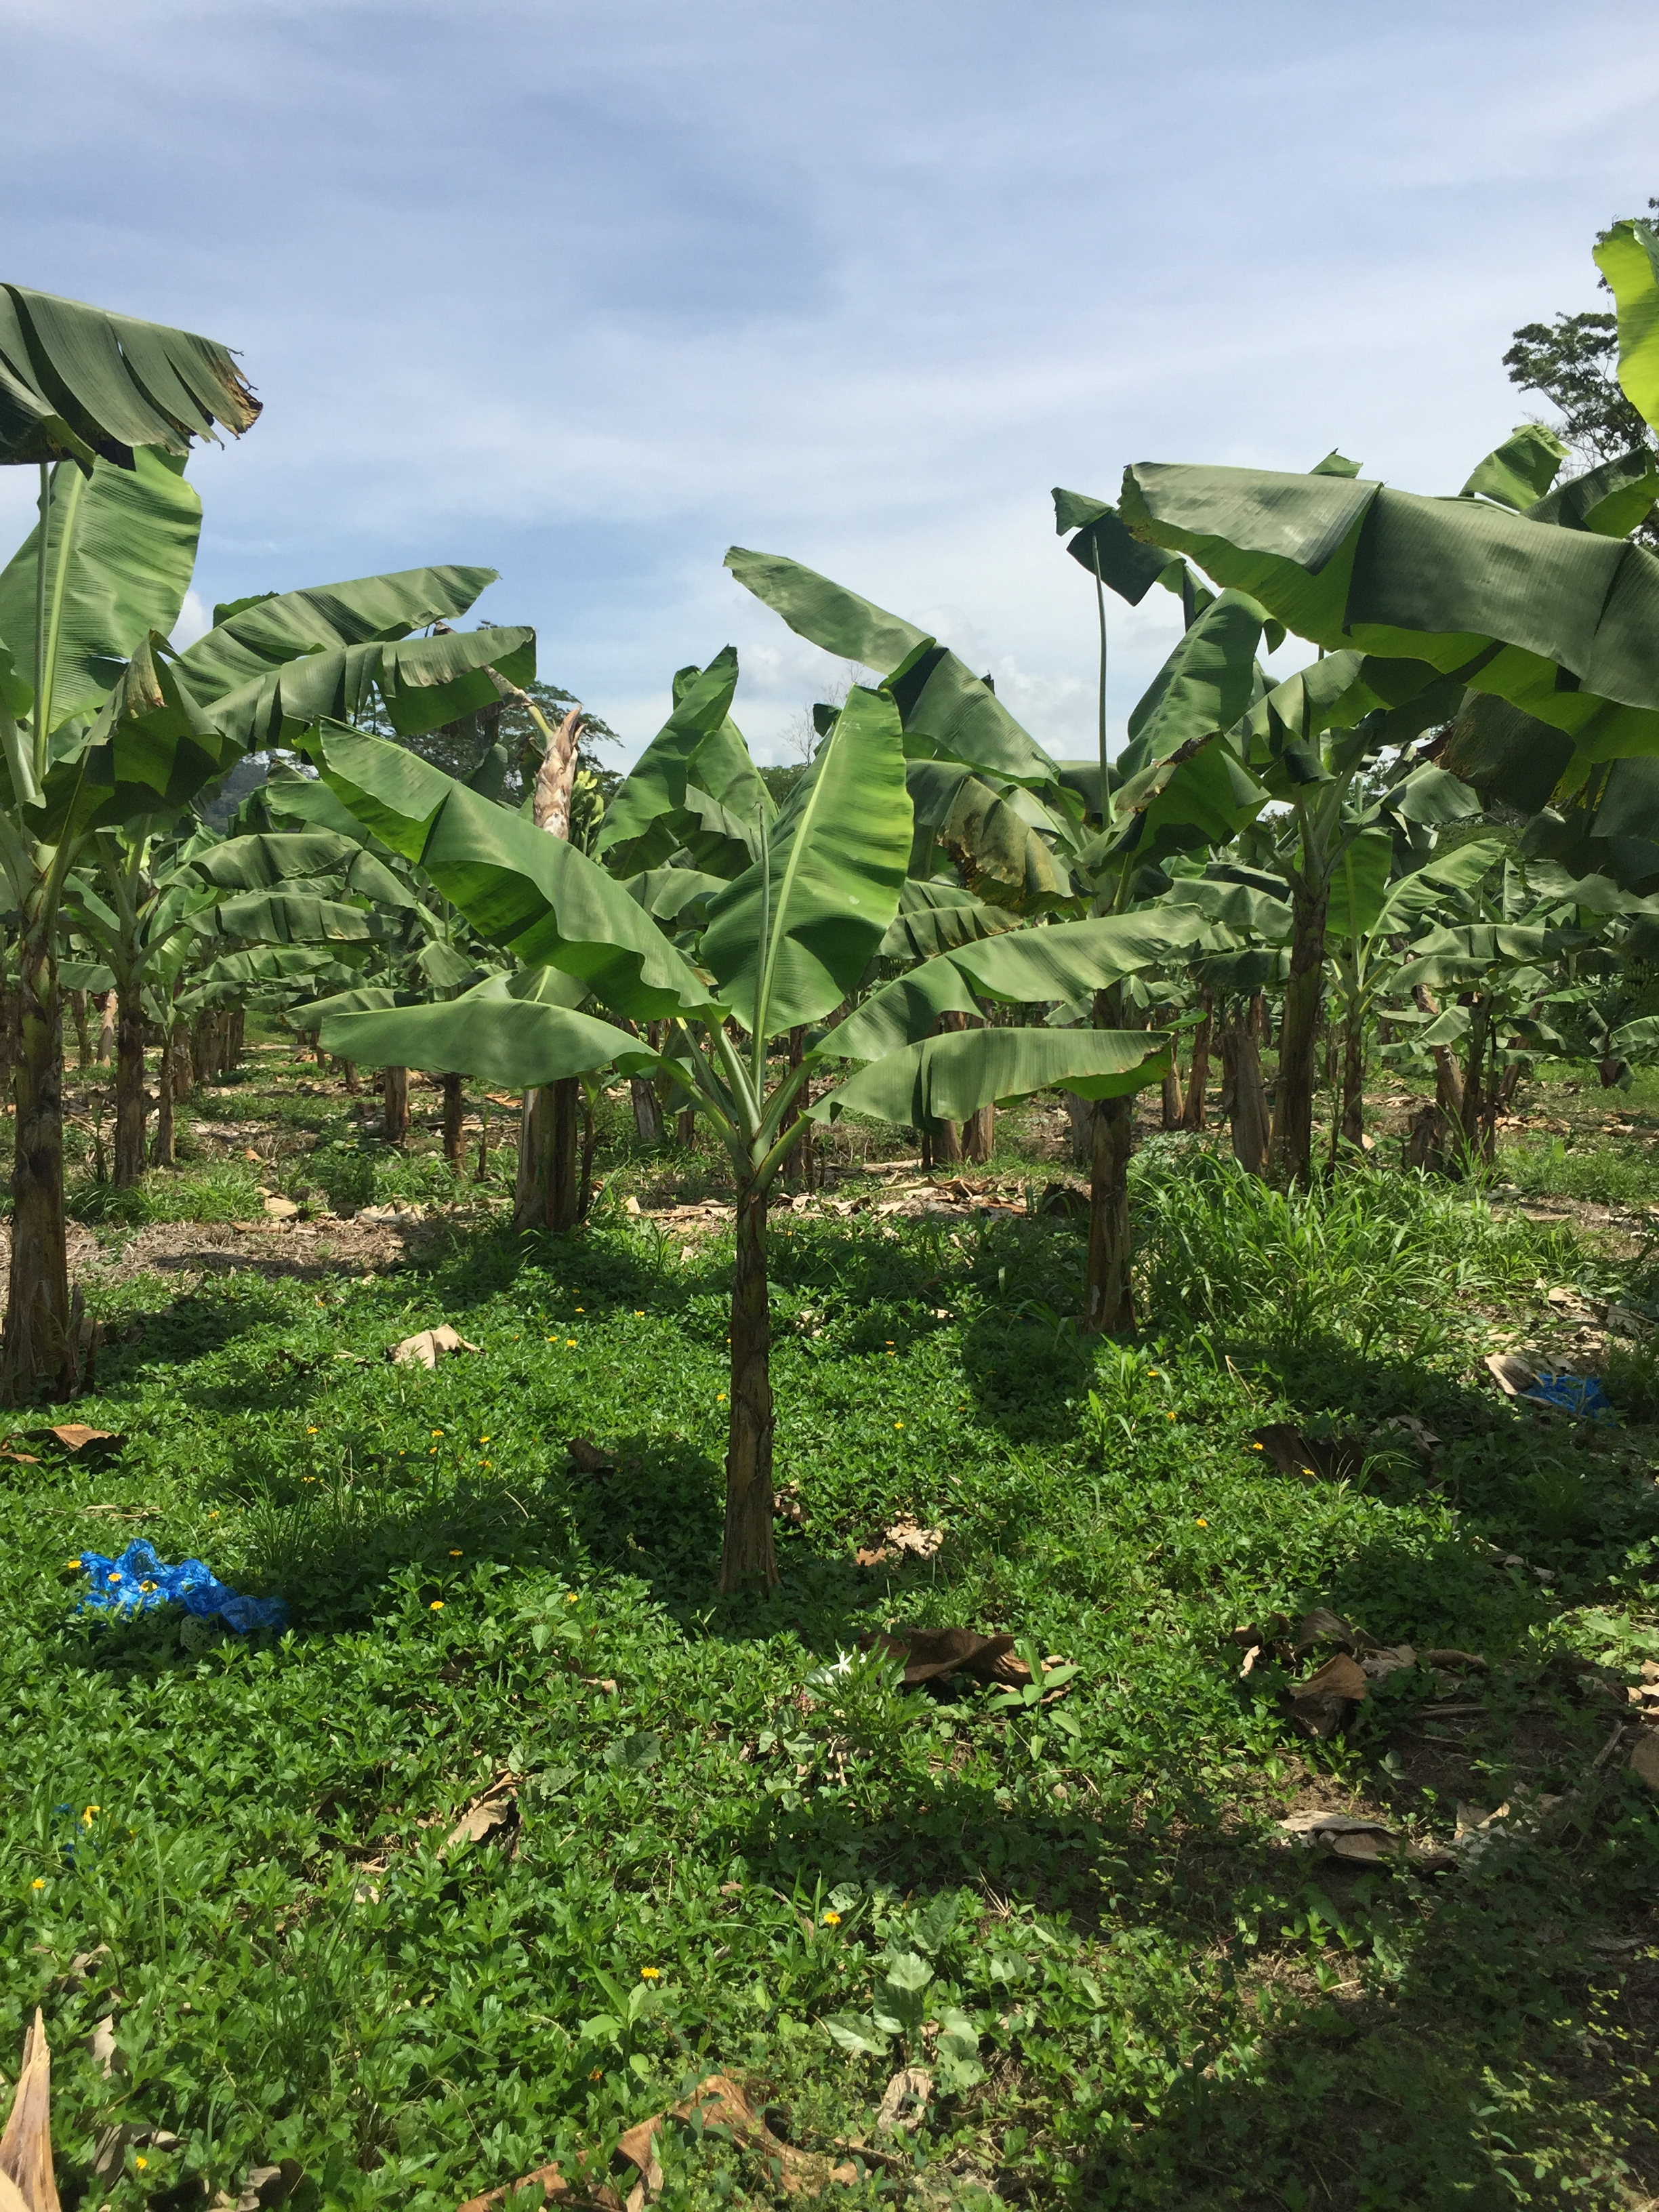candleleafs: (1089, 533, 1112, 829), (35, 462, 49, 789)
